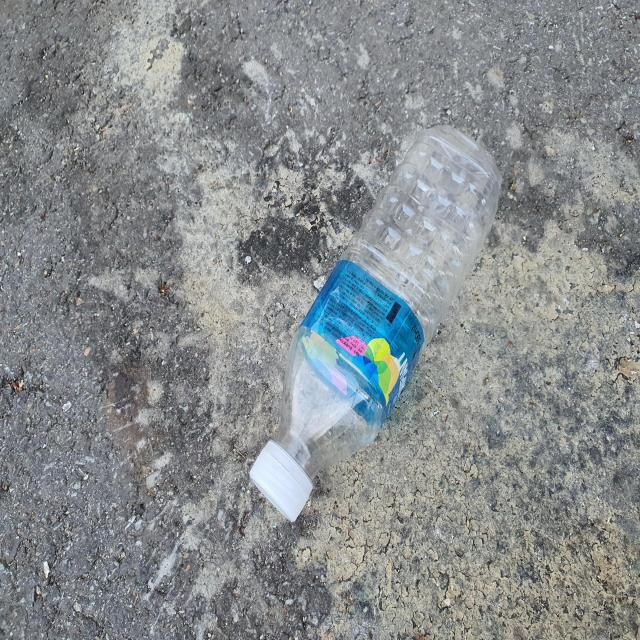plastic: (250, 125, 501, 522)
